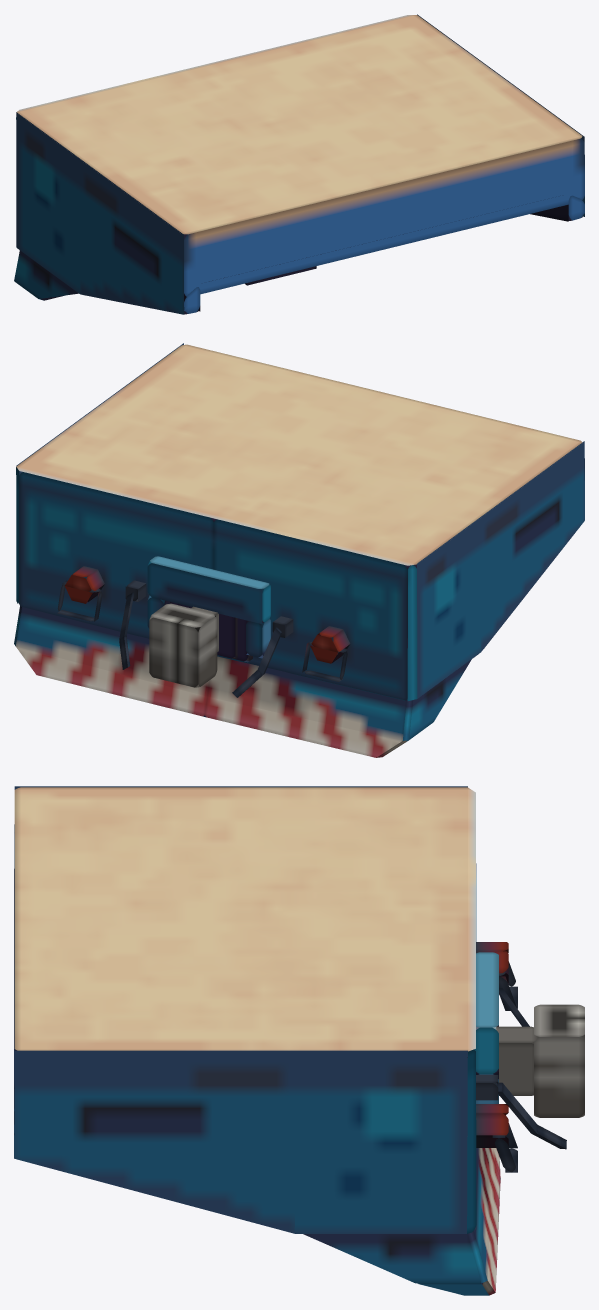
Rendered from ss8_cowcatcher.obj.
3 views of the same model, one above another, from view 1: azimuth 30°, elevation 25°; view 2: azimuth 150°, elevation 25°; view 3: azimuth 270°, elevation 25° (orthographic). The views are drawn at different scales.
Visible parts, largest first — view 1: cylinder_selection_selection_selection_selection; view 2: cylinder_selection_selection_selection_selection; view 3: cylinder_selection_selection_selection_selection.
Part boxes in pixels (bbox=[...]): cylinder_selection_selection_selection_selection: bbox=[14, 14, 584, 314]; cylinder_selection_selection_selection_selection: bbox=[14, 343, 584, 757]; cylinder_selection_selection_selection_selection: bbox=[14, 786, 584, 1295].
Size of the model in its own units: 3.06 by 1.42 by 2.8.
